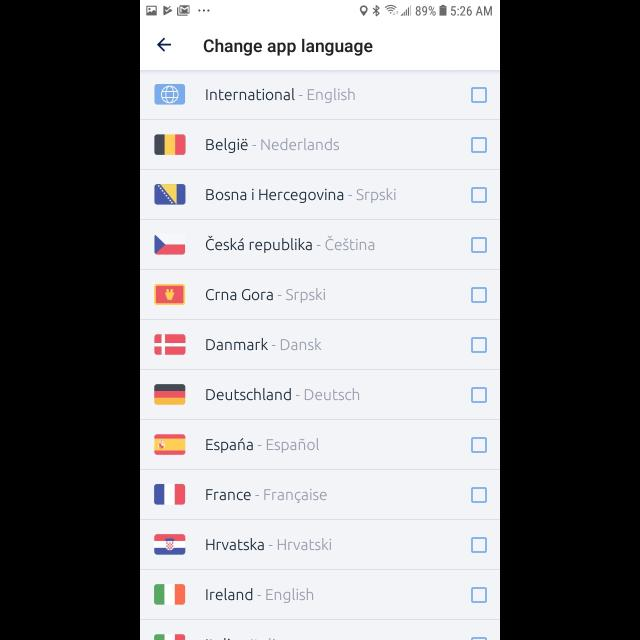checkbox: (472, 137, 486, 153), (472, 187, 486, 203), (472, 236, 486, 252), (472, 286, 486, 302), (472, 337, 486, 353), (472, 487, 486, 503), (472, 537, 486, 553), (472, 586, 486, 602), (472, 88, 486, 102), (472, 388, 486, 402), (472, 438, 486, 452)
icon: (158, 38, 172, 52)
image: (154, 134, 186, 156), (154, 284, 186, 306), (154, 334, 186, 356), (154, 384, 186, 406), (154, 434, 186, 456), (154, 84, 186, 105), (154, 183, 186, 204), (154, 235, 186, 255), (154, 484, 186, 504), (154, 534, 186, 554), (154, 584, 186, 604), (154, 634, 186, 640)
text: (206, 188, 396, 204), (204, 39, 372, 57), (206, 235, 374, 253), (206, 88, 354, 104), (206, 138, 340, 154), (206, 488, 326, 504), (207, 288, 326, 304), (206, 388, 360, 400), (206, 438, 320, 454), (206, 588, 314, 604), (206, 538, 332, 550), (206, 338, 322, 350)
uppertaskbar: (140, 0, 500, 16)
